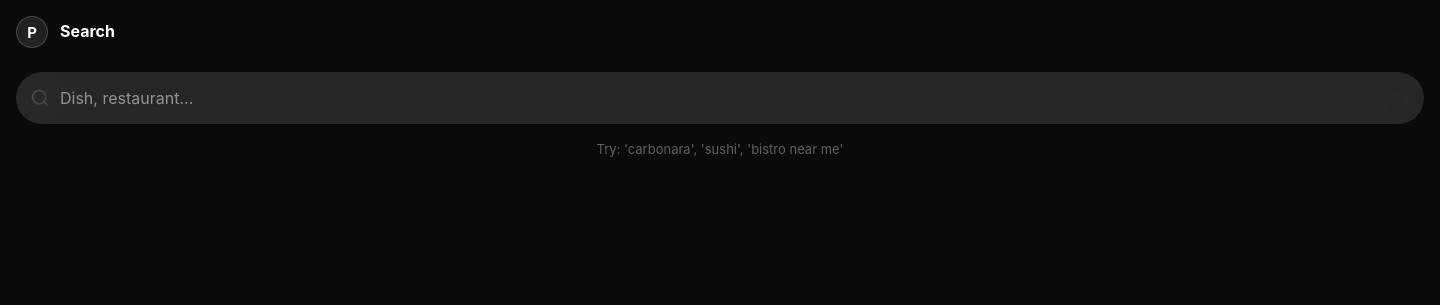
Test: SearchScreen — error state › renders ErrorState with retry button on error
The image size is (1440, 305).
Type "abc" into the search field with placeholder "Dish, restaurant...".
click(720, 98); type("abc")  # box 16,72 -> 1424,124
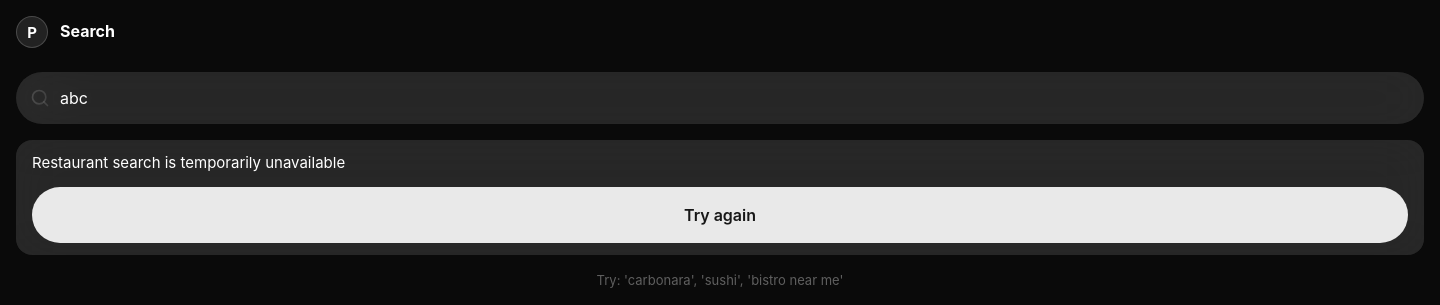
Expected: the text "Try: 'carbonara', 'sushi', 'bistro near me'" is shown, 597,272 -> 843,288
Now the message "Restaurant search is temporarily unavailable Try again" is shown, box 16,140 -> 1424,254
